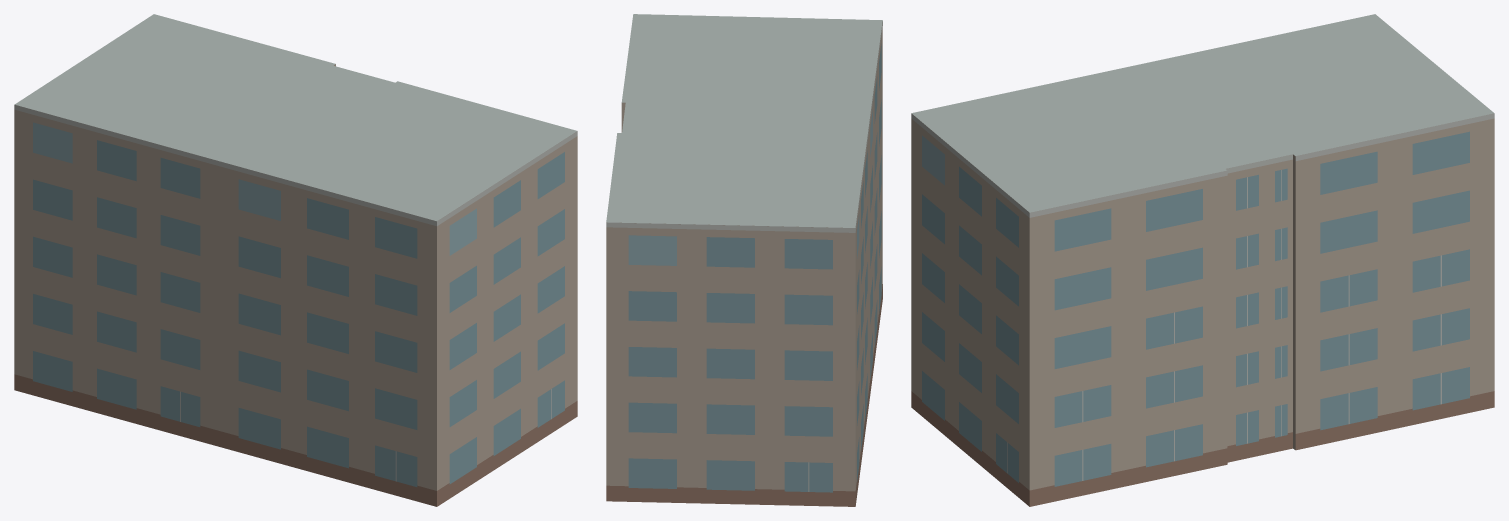
File: survey-upis-32997173.glb
The picture shows the model from 3 angles, left to right: view 1: azimuth 30°, elevation 25°; view 2: azimuth 150°, elevation 25°; view 3: azimuth 270°, elevation 25°; orthographic projection. The views are drawn at different scales.
Visible parts, largest first — view 1: survey-upis-32997173.tmp; view 2: survey-upis-32997173.tmp; view 3: survey-upis-32997173.tmp.
Boxes of the visible parts, <box> form: survey-upis-32997173.tmp: <box>14,14,577,506</box>; survey-upis-32997173.tmp: <box>606,14,882,506</box>; survey-upis-32997173.tmp: <box>911,14,1494,506</box>.
Size of the model in its own units: 20.15 by 13.9 by 24.99.
